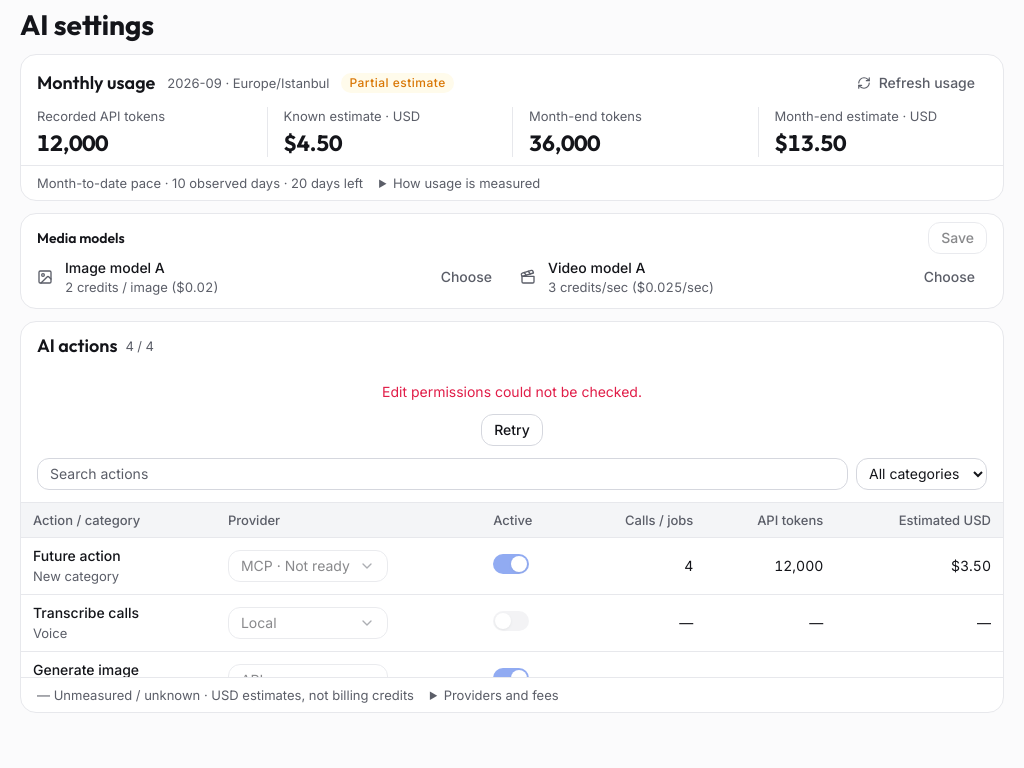
Test case: AI execution policy on the AI models page › fails closed until owner permission is loaded and allows retrying permission errors
The image size is (1024, 768).
Expected: the switch named "Future action: active" is disabled, [493, 554, 529, 574]
Expected: the message shows "permissions", [382, 383, 642, 400]
Click the button "Retry": (512, 430) [481, 414, 543, 446]
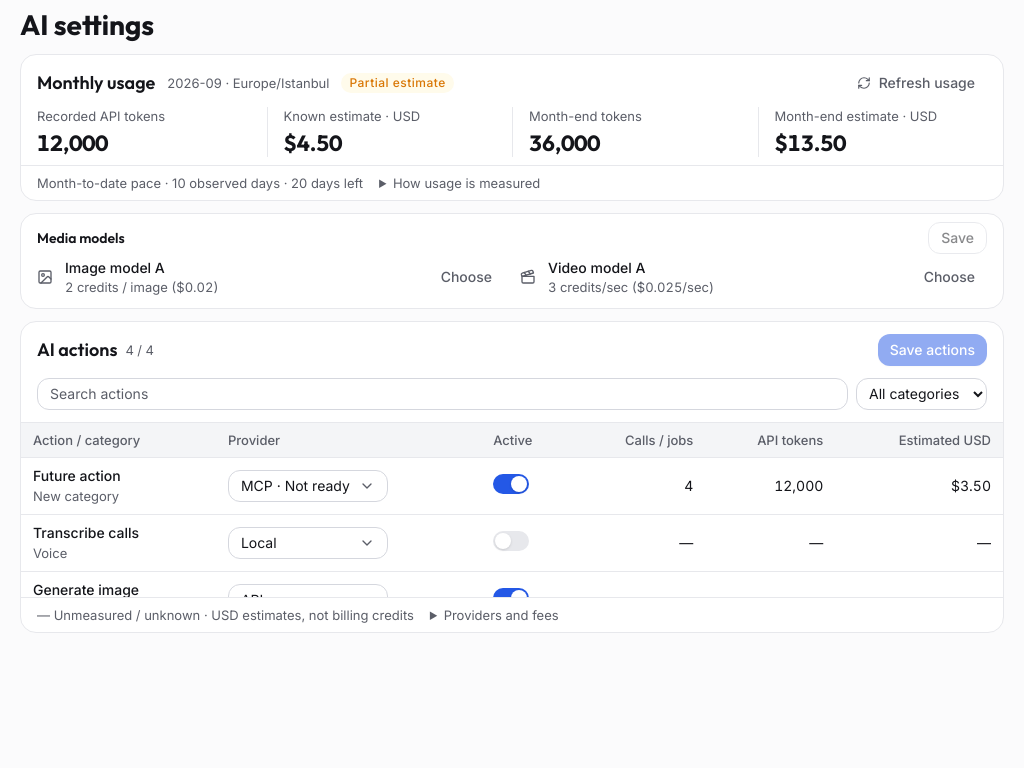
Result: the switch named "Future action: active" is enabled at [493, 474, 529, 494]
